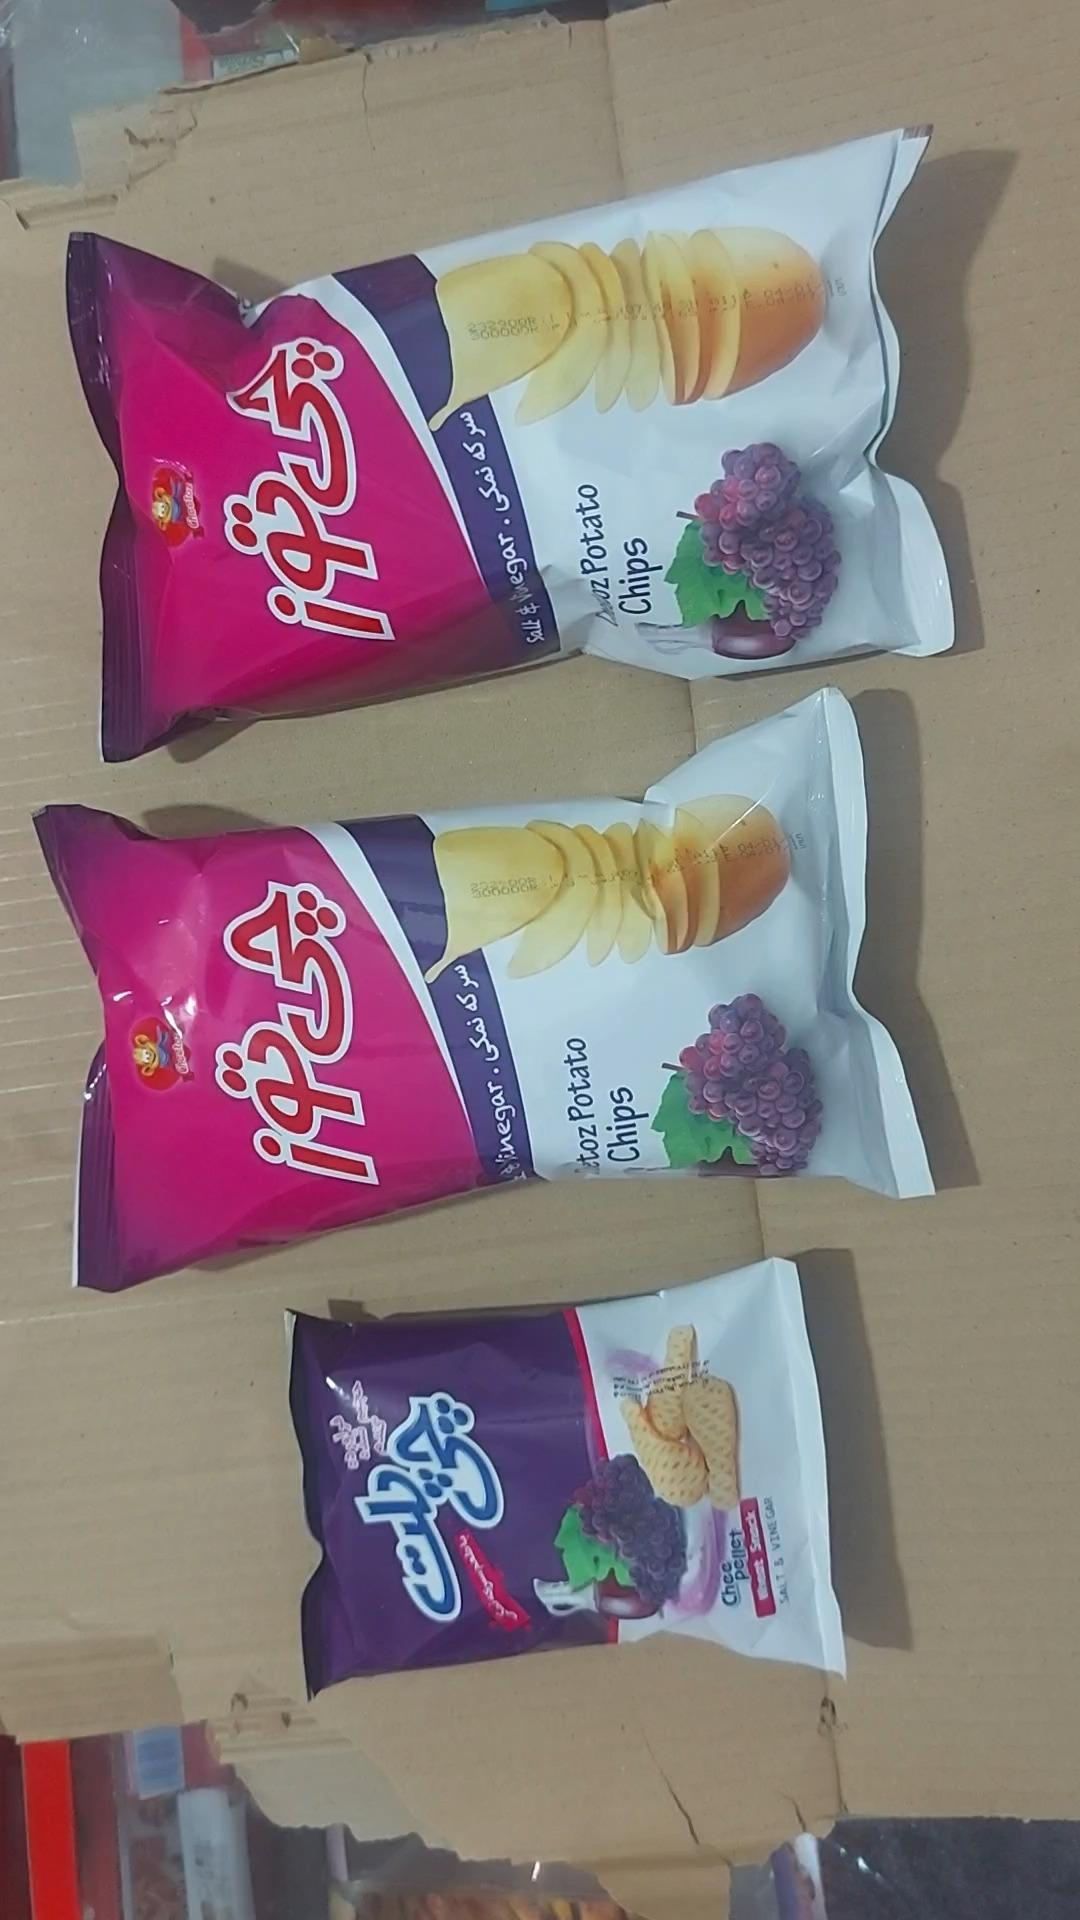Chee pellet vinegar: (287, 1261, 845, 1698)
Cheetoz vinegar chips: (66, 131, 955, 761), (36, 692, 927, 1291)
